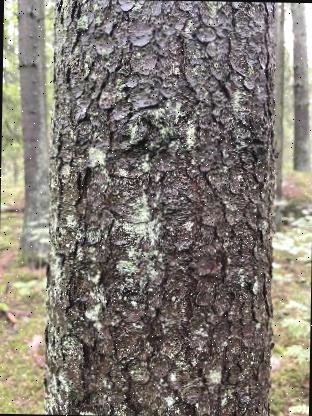tree: (33, 0, 288, 416)
